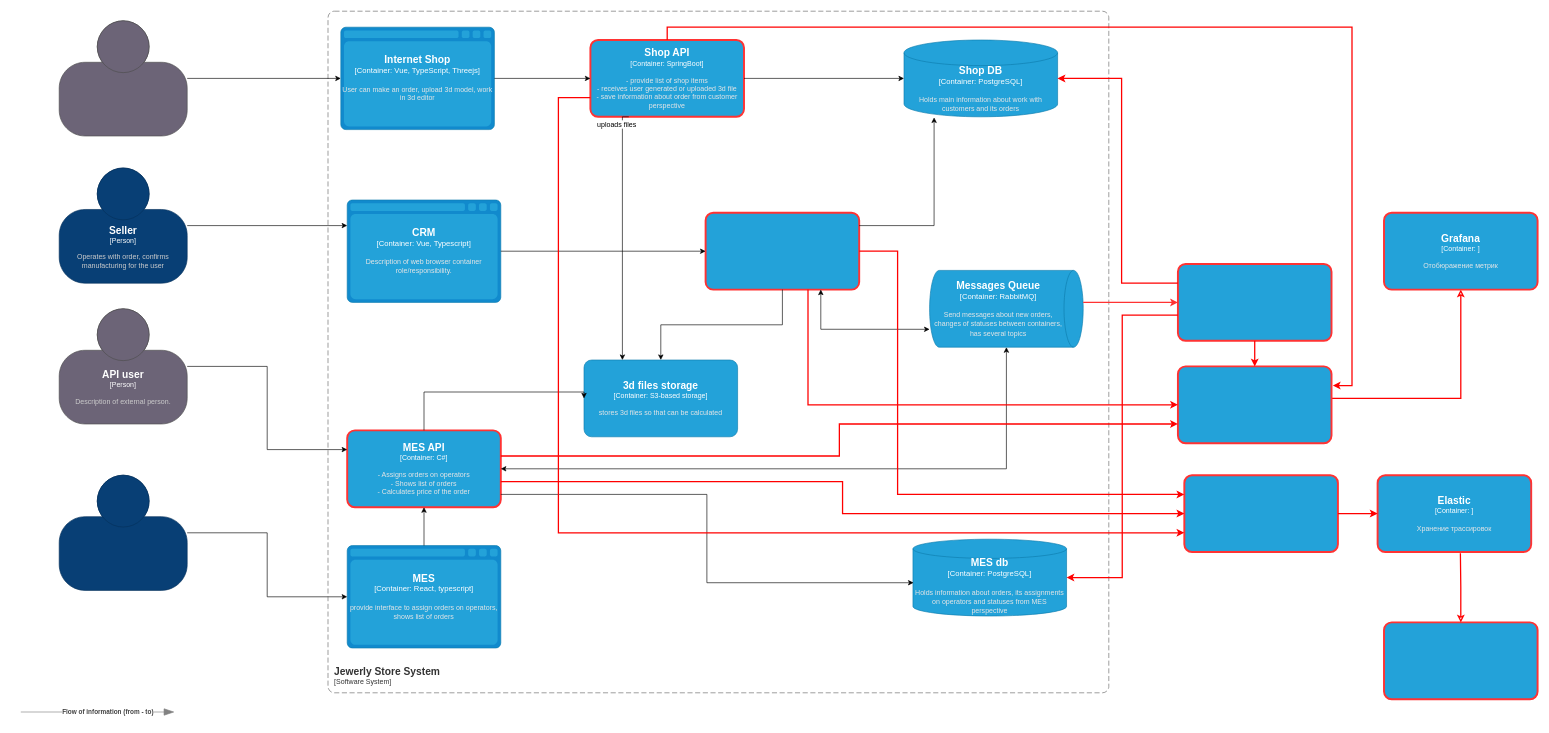
Some shapes in this 1549 by 733 pixel diagram are drawn without their labels. Here are the shapes that lost their labels. From the top down, the centre of each, then its label:
At (x=123, y=78): "Customer [Person] Description of external person.".
At (x=782, y=251): "CRM API [Container: SpringBoot] Description of container role/responsibility.".
At (x=1254, y=302): "Prometheus Exporter [Container: ] Получение метрик БД".
At (x=1254, y=404): "Prometheus [Container: ] Хранение метрик".
At (x=123, y=532): "Operator [Person] Takes order in work, manufactures jewerly".
At (x=1261, y=513): "Jaeger [Container: ] Получение трассировок".
At (x=1460, y=660): "Jaeger UI [Container: ] Отображение трассировок".
